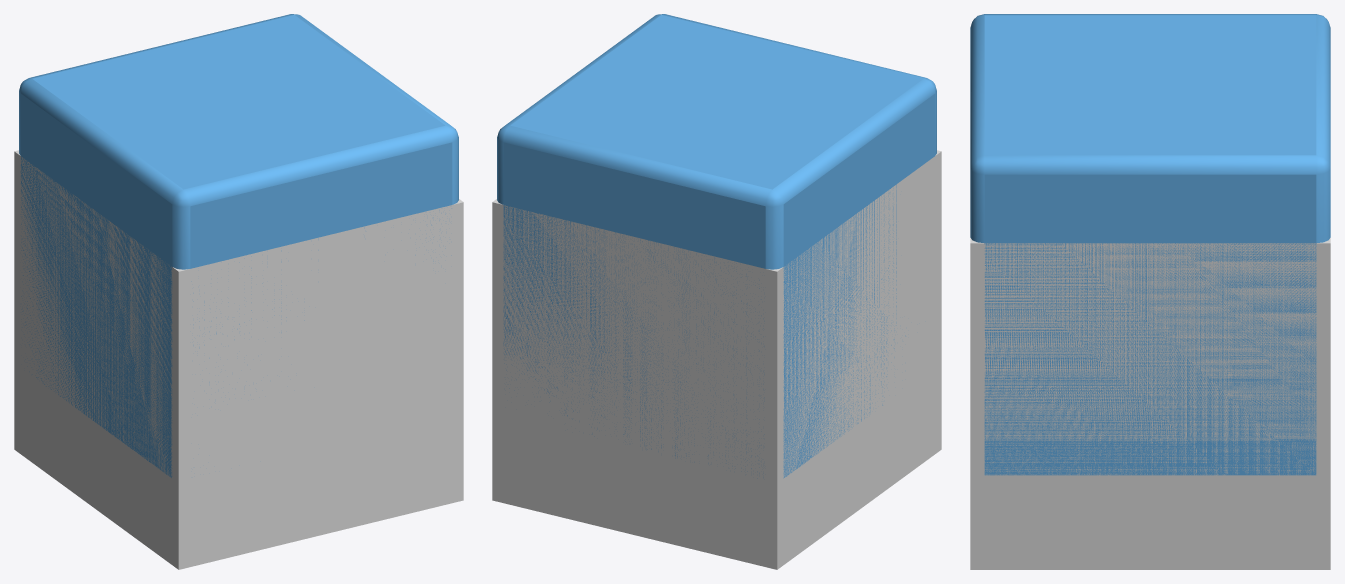
Rendered from stylized_treasure_chest.glb.
3 renders of one model, left to right at view 1: azimuth 30°, elevation 25°; view 2: azimuth 150°, elevation 25°; view 3: azimuth 270°, elevation 25°, orthographic. The views are drawn at different scales.
Visible parts, largest first — view 1: Cube, example_cube; view 2: Cube, example_cube; view 3: example_cube, Cube.
Boxes of the visible parts, x1,y1,x2,y2 form: Cube: [14, 150, 463, 569]; example_cube: [19, 14, 458, 477]; Cube: [492, 150, 941, 569]; example_cube: [497, 14, 936, 478]; example_cube: [970, 14, 1330, 475]; Cube: [970, 238, 1330, 569].
Bounding box in the file's own units: 2 × 2.5 × 2.
